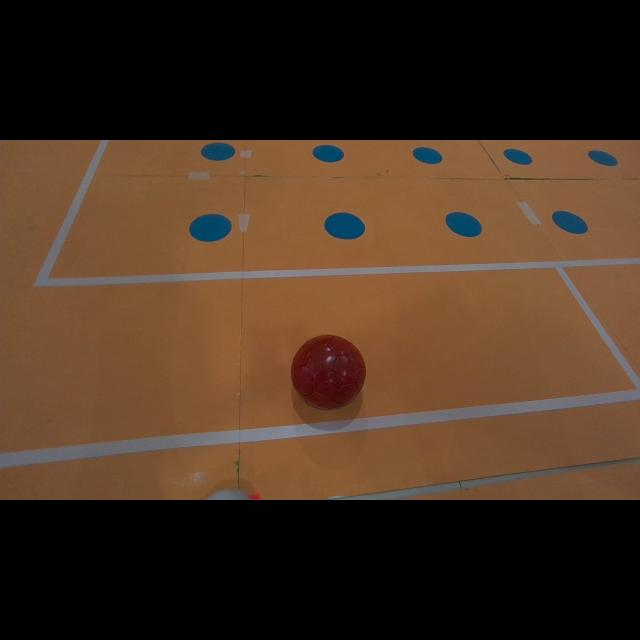R: (291, 335, 366, 410)
